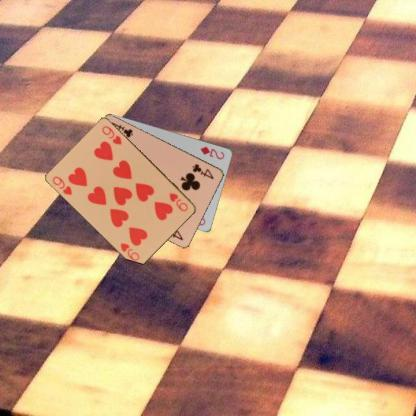2d: (198, 143, 226, 161)
4c: (190, 161, 216, 180)
9h: (166, 190, 190, 213), (50, 173, 74, 196)
